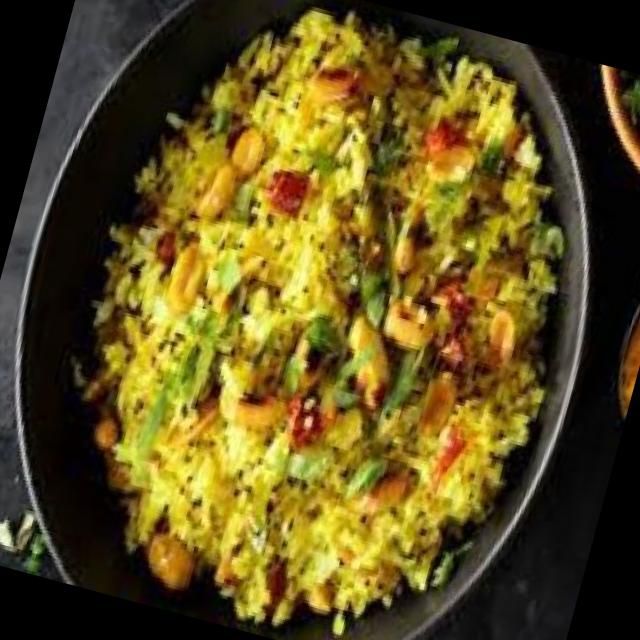poha: (23, 0, 627, 640)
